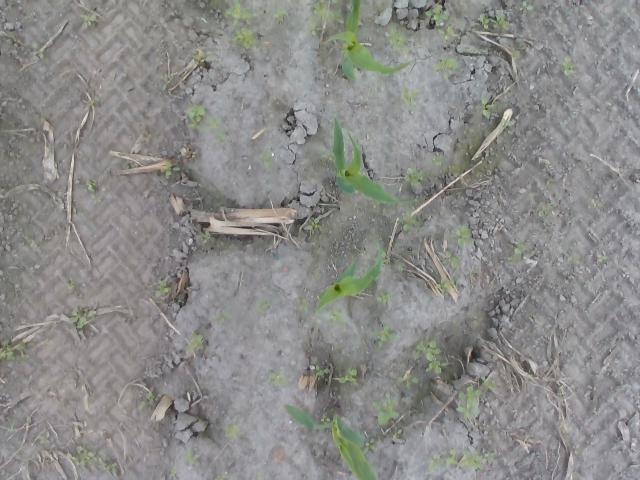Maize: (332, 118, 420, 208), (321, 0, 417, 81), (308, 239, 387, 334), (282, 402, 378, 480)
Weeds: (430, 449, 497, 474), (188, 105, 228, 145), (456, 380, 496, 418), (314, 1, 344, 36), (417, 342, 443, 374), (478, 13, 514, 35), (374, 397, 398, 429), (74, 447, 110, 468), (224, 1, 252, 25), (229, 26, 256, 50), (386, 28, 408, 54), (0, 338, 26, 360), (370, 327, 398, 347), (71, 308, 96, 330), (424, 5, 450, 25), (437, 56, 459, 78), (454, 224, 472, 249), (268, 370, 287, 388), (402, 90, 419, 110), (336, 370, 358, 385), (404, 172, 424, 188), (186, 333, 202, 353), (478, 98, 493, 118), (274, 5, 290, 22), (402, 215, 418, 232), (446, 250, 460, 269), (192, 53, 218, 63), (329, 309, 349, 322), (141, 393, 155, 410), (563, 57, 575, 76), (164, 163, 179, 178), (538, 203, 554, 217), (399, 377, 419, 388), (156, 282, 168, 300), (306, 219, 322, 232), (436, 280, 450, 294), (317, 364, 331, 378), (261, 151, 274, 166), (186, 454, 202, 466), (379, 292, 391, 306), (260, 298, 274, 310), (216, 312, 228, 326), (440, 26, 453, 38), (521, 2, 535, 11), (82, 15, 96, 24), (297, 300, 308, 311), (86, 178, 95, 191), (514, 244, 522, 257), (225, 428, 238, 436), (432, 154, 442, 164), (593, 199, 604, 208), (599, 254, 608, 262)
